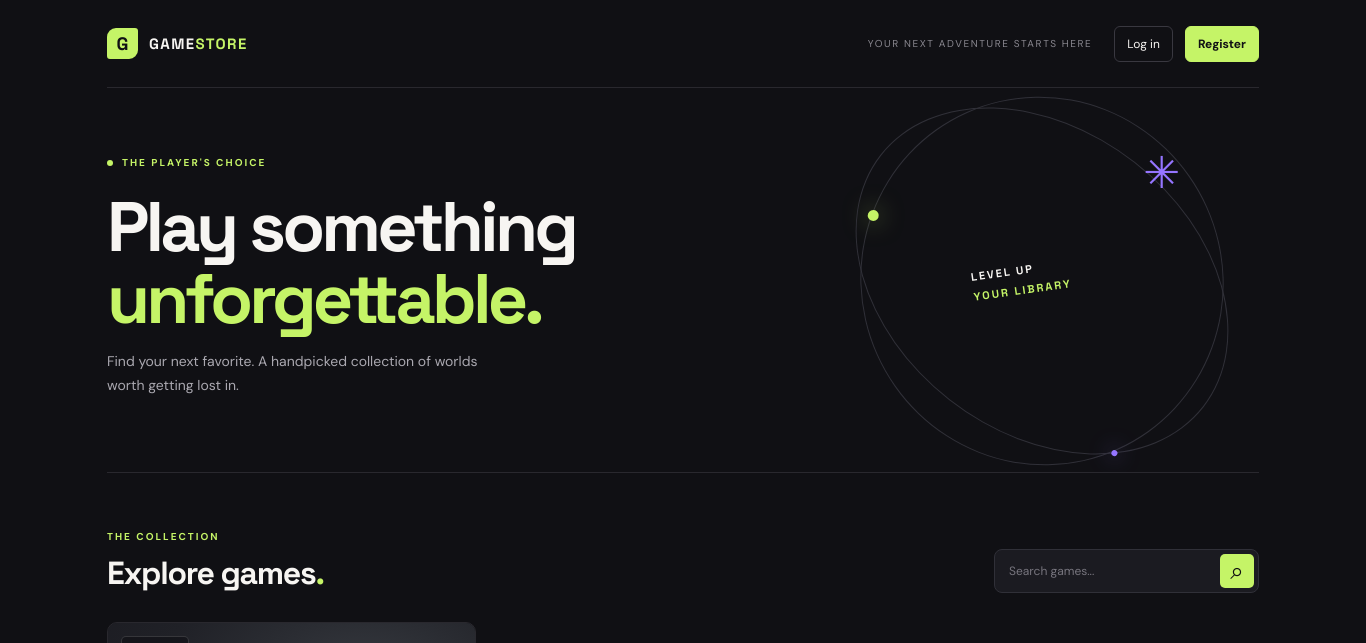
Test: GameStore catalog › shows a backend login error without changing guest state
Click the button "Log in": (1144, 44) 1114,26 -> 1173,62
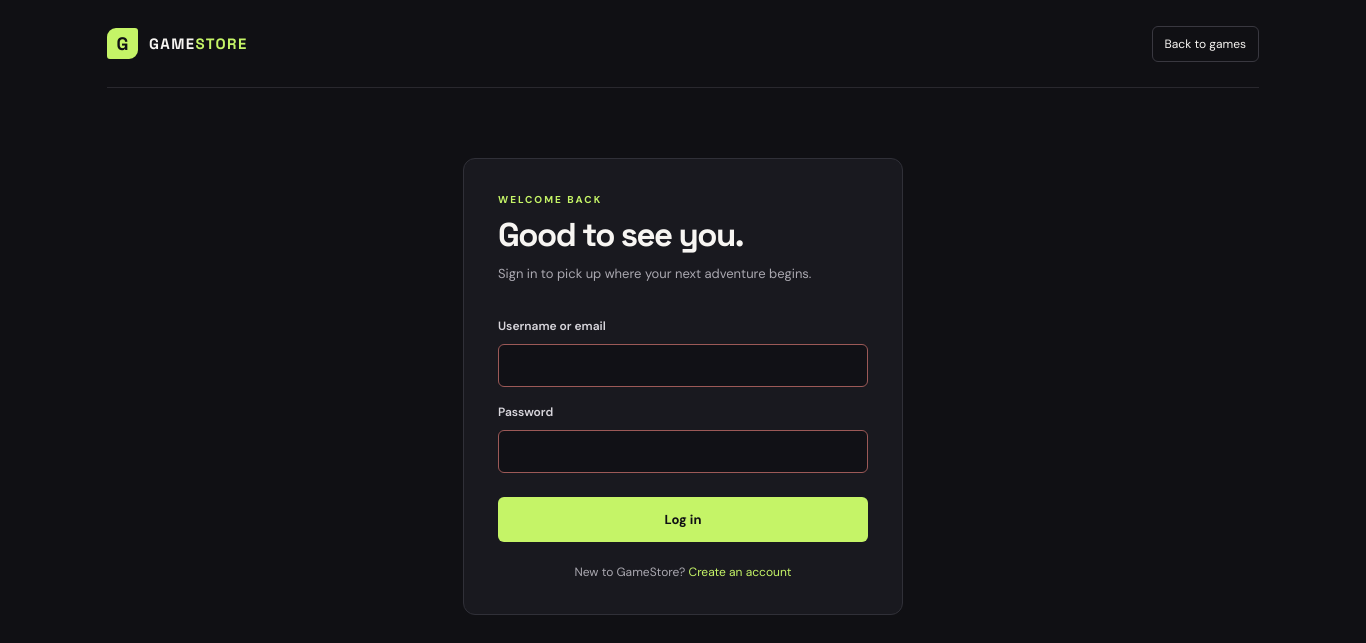
In the field labelled "Username or email": (683, 365) 498,344 -> 868,387, type "playerone"
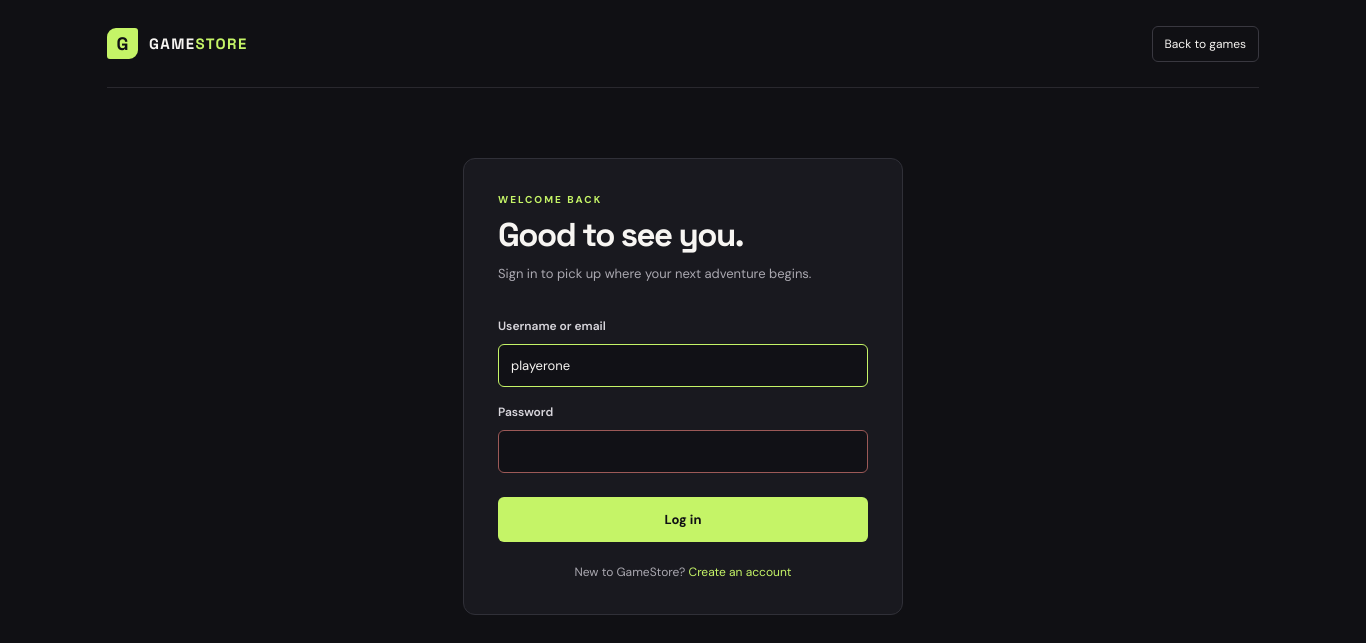
In the password field labelled "Password": (683, 451) 498,430 -> 868,473, type "wrong-password"
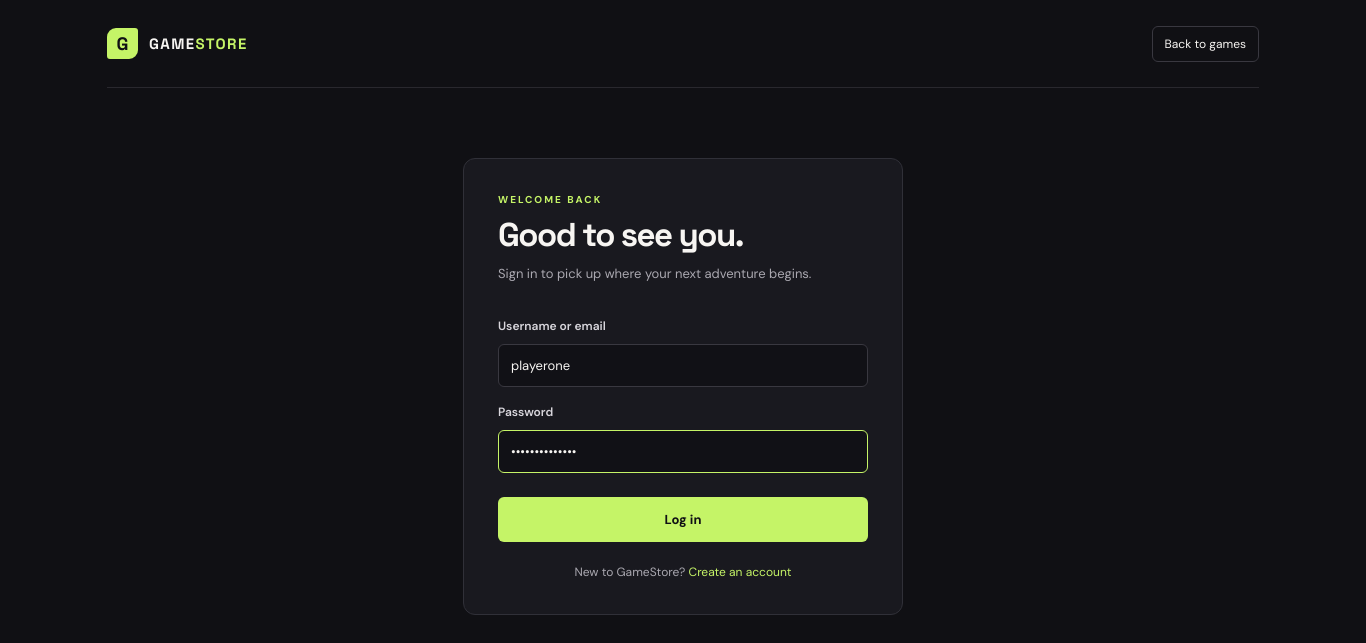
Click the button "Log in": (683, 519) 498,497 -> 868,542
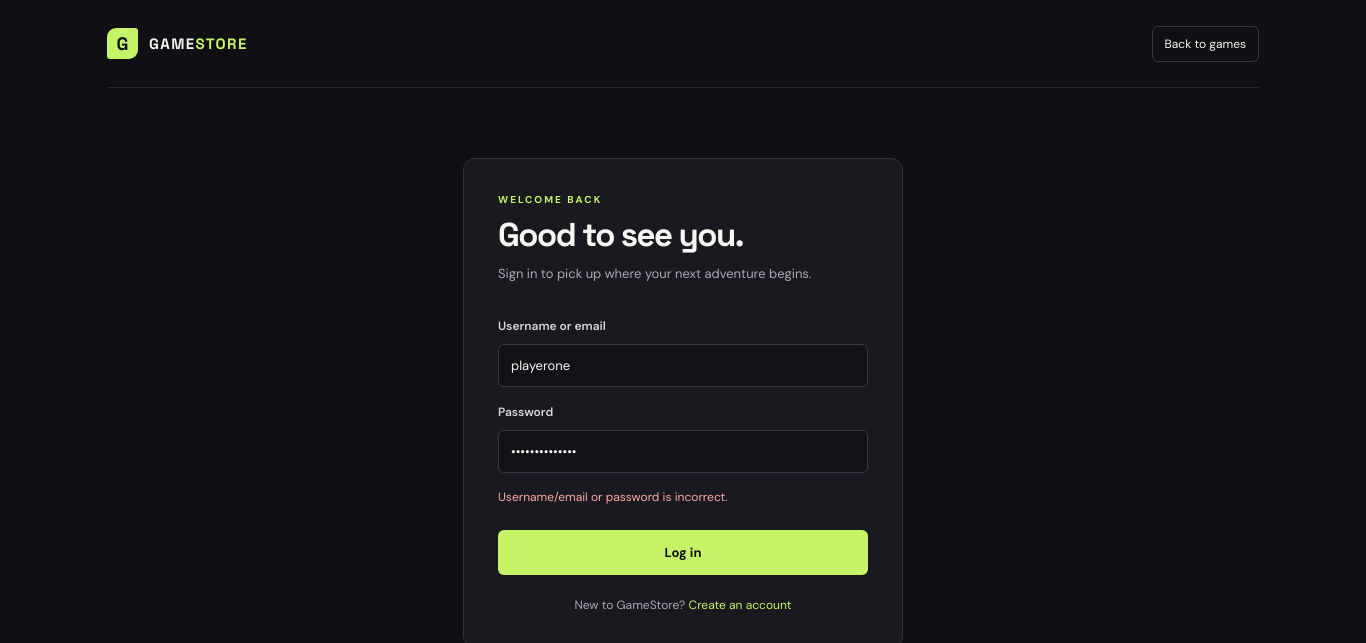
Now the button "Back to games" is shown, box 1152,26 -> 1259,62
Now the message shows "incorrect", box 498,489 -> 728,505
